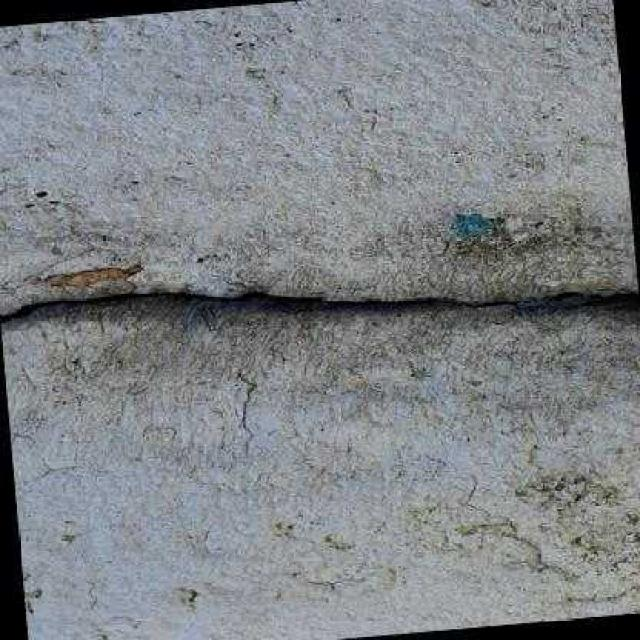D00: (0, 289, 639, 325)
